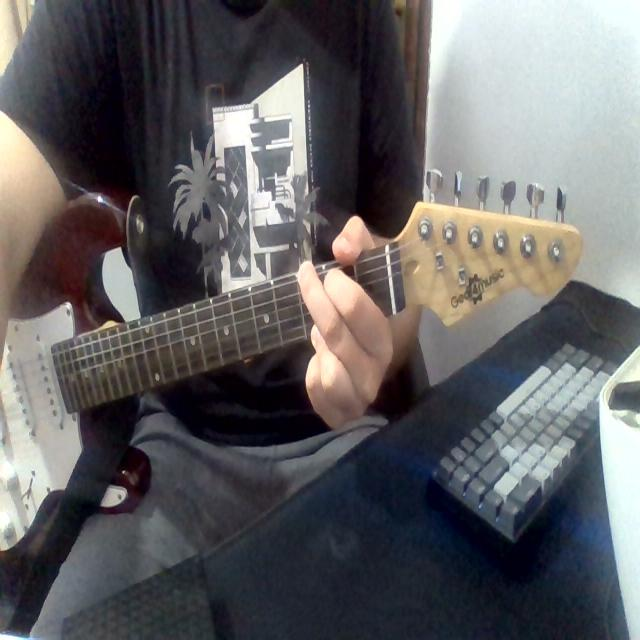G: (272, 207, 372, 419)
